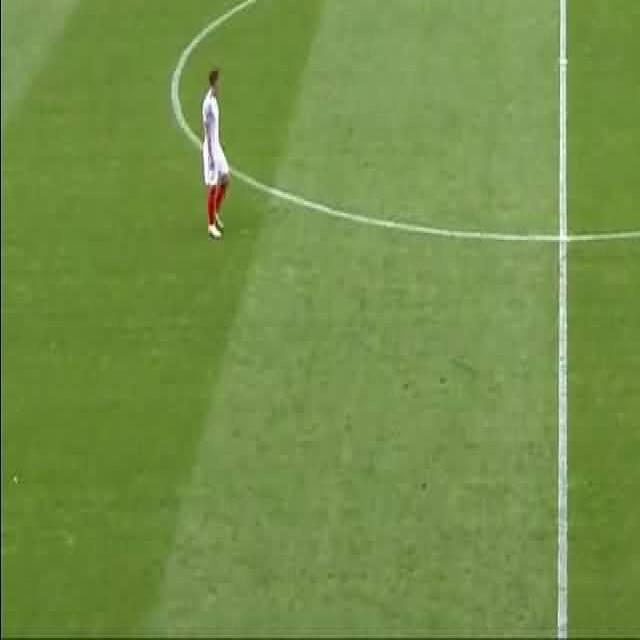player-white: (202, 69, 232, 241)
